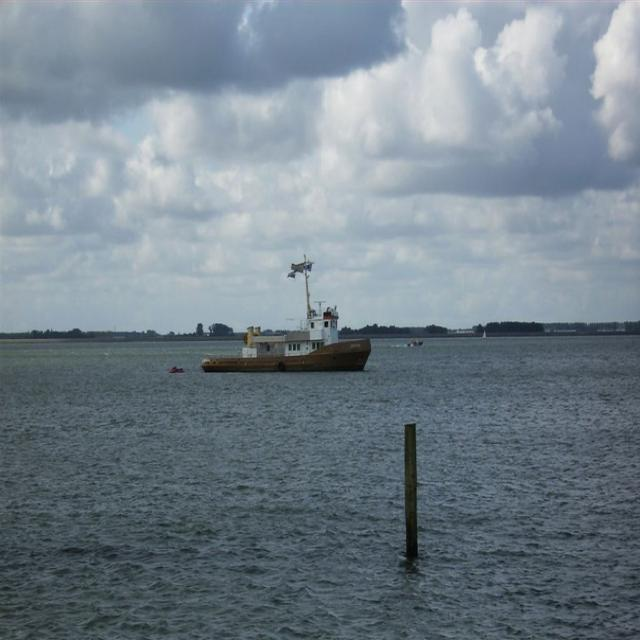houseboat: (206, 257, 369, 392)
